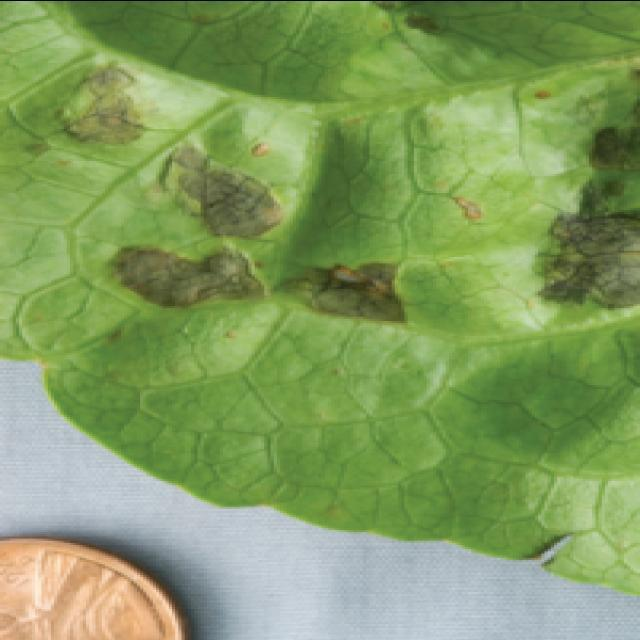Baby: (11, 61, 637, 350)
